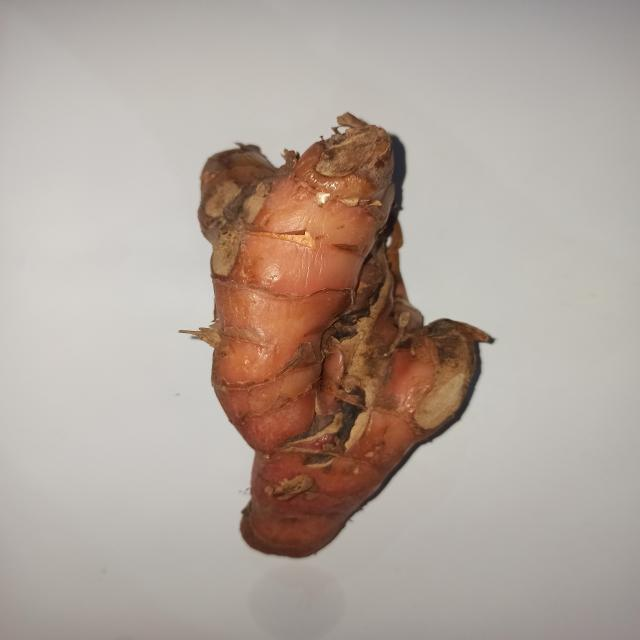ginger: (194, 140, 497, 531)
